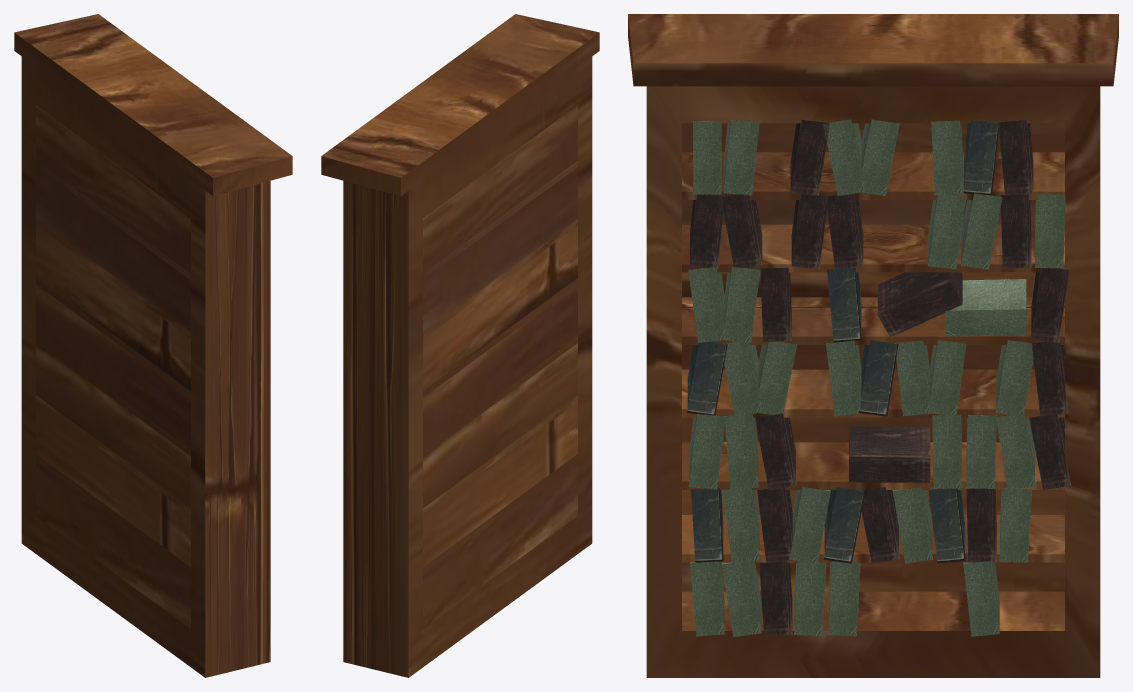
3 renders of one model, left to right at view 1: azimuth 30°, elevation 25°; view 2: azimuth 150°, elevation 25°; view 3: azimuth 270°, elevation 25°, orthographic. The views are drawn at different scales.
Parts seen in each view (by area): view 1: Cube.283; view 2: Cube.283; view 3: Cube.283.
Part boxes in pixels (x1,y1,x2,y2): Cube.283: [14, 14, 292, 677]; Cube.283: [321, 14, 599, 677]; Cube.283: [628, 14, 1118, 677].
Size of the model in its own units: 289 by 1701 by 1212.
